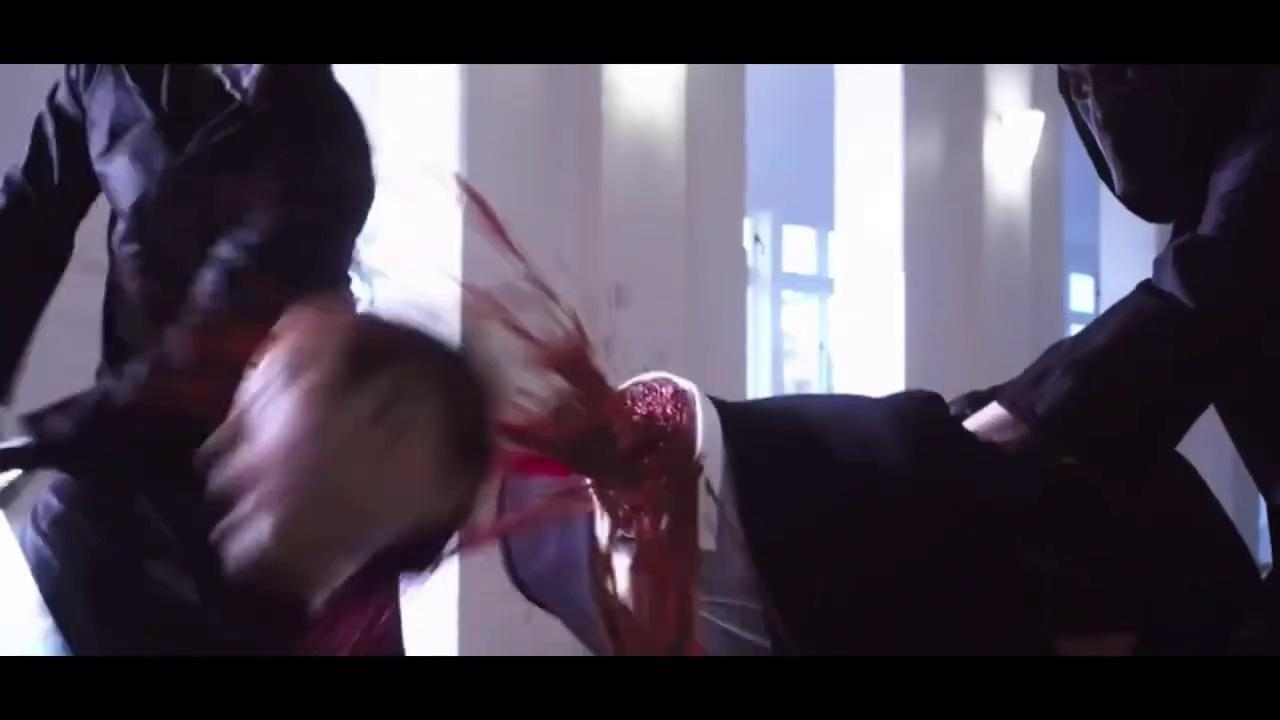Fire: (459, 179, 698, 656), (139, 328, 262, 428), (301, 587, 403, 655)
